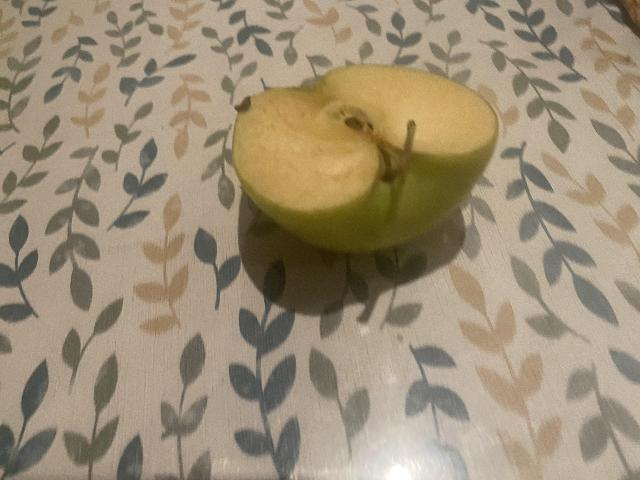Organik: (227, 56, 502, 254)
